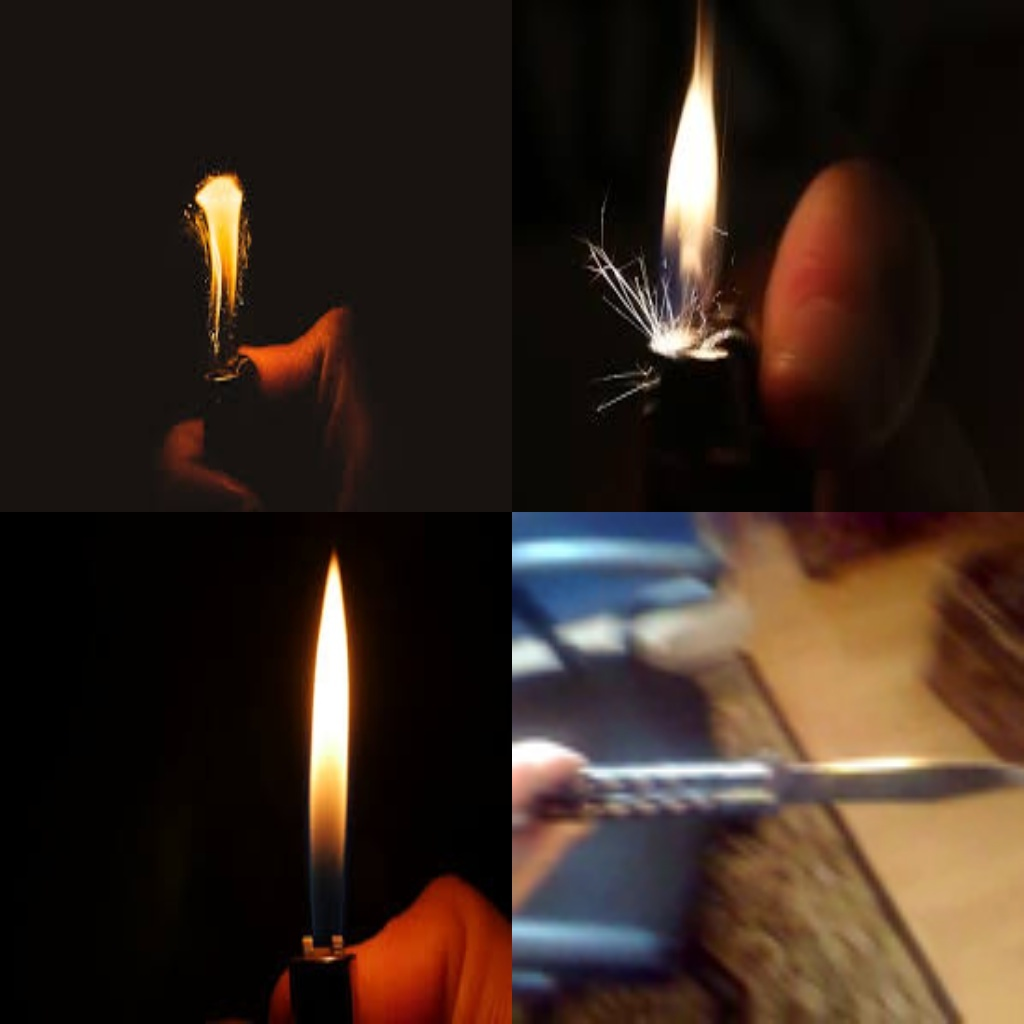fire: (660, 49, 723, 357), (309, 548, 352, 945), (188, 167, 253, 363)
